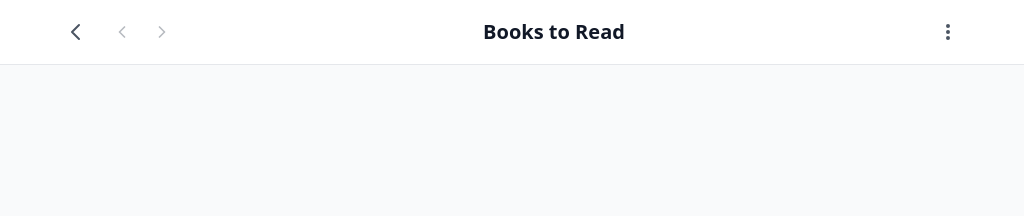
Test: CollectionHeader › should open menu when menu button is clicked
Click the button named "collection menu". click: click(948, 32)
box: [928, 12, 968, 52]
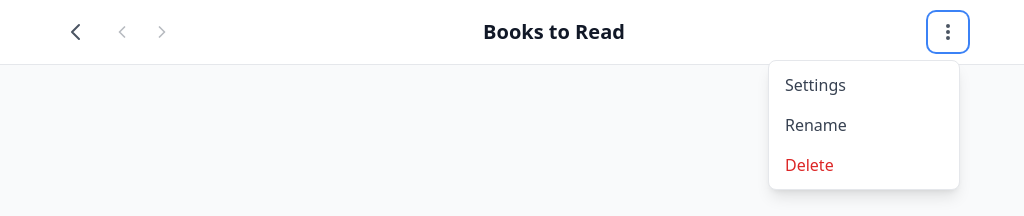
Now the button "Settings" is shown, box [769, 65, 959, 105]
Now the button "Rename" is shown, box [769, 105, 959, 145]
Now the button "Delete" is shown, box [769, 145, 959, 185]
